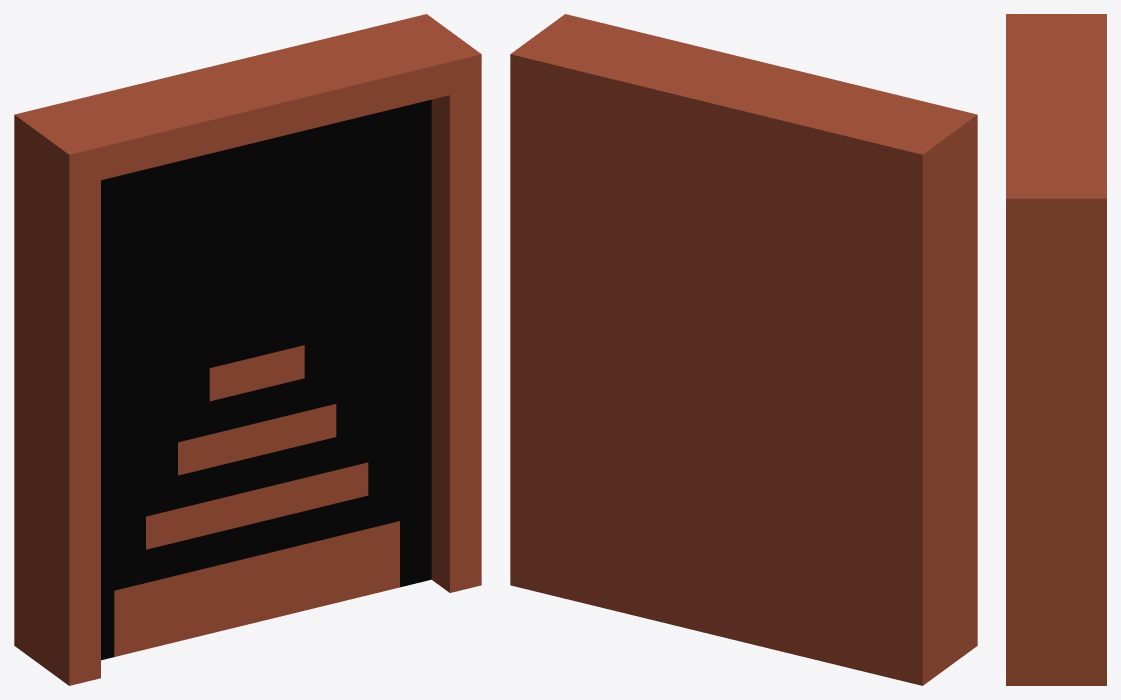
Rendered from dungeon_b_b_entrance_c.obj.
3 views of the same model, side by side, from view 1: azimuth 30°, elevation 25°; view 2: azimuth 150°, elevation 25°; view 3: azimuth 270°, elevation 25° (orthographic). The views are drawn at different scales.
Bounding box in the file's own units: 1.3 × 1.6 × 0.3.
1 material, 1 textured.
